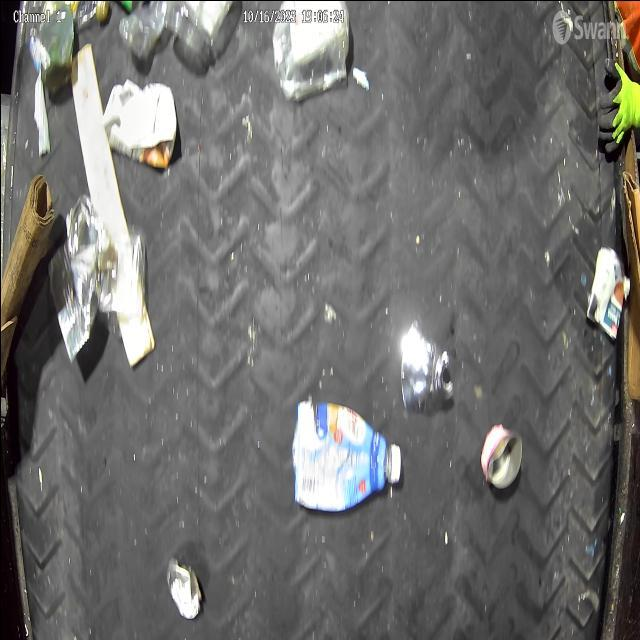can: (45, 196, 111, 360), (399, 322, 453, 414), (584, 243, 624, 339), (479, 423, 523, 488), (165, 554, 202, 619)
milk_jug: (100, 80, 178, 170)
